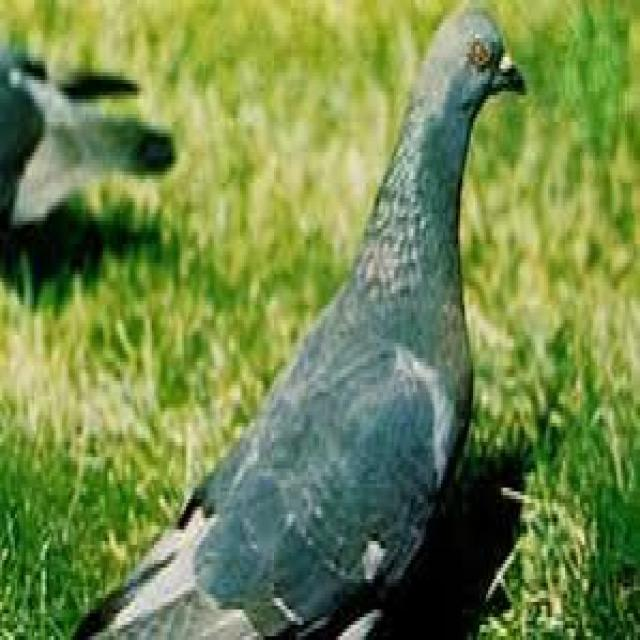pigeon: (77, 4, 522, 636)
